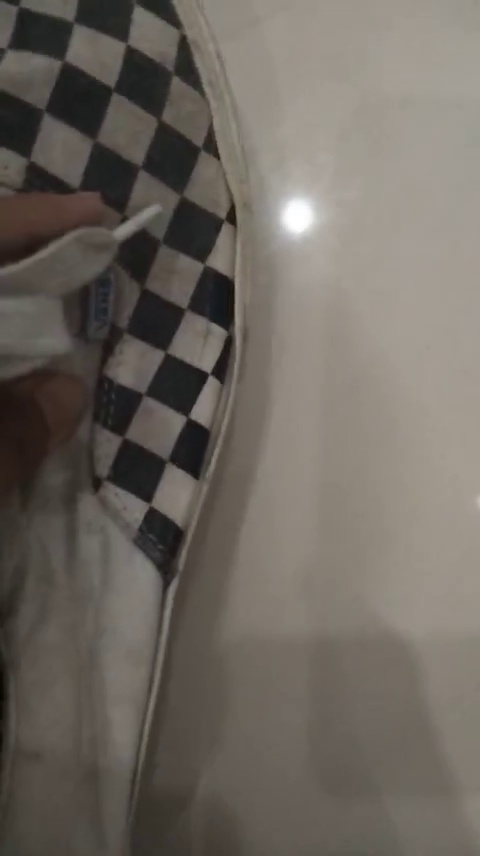bonding: (189, 227, 245, 531)
